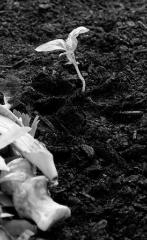organic: (0, 108, 70, 186), (30, 27, 104, 99), (12, 172, 78, 236)
